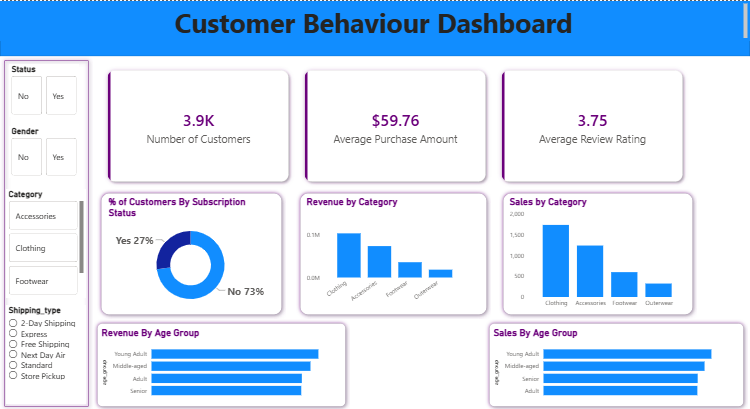

Layout of this report page (visuals, bound fields, positions):
{"tool":"powerbi","page":{"name":"Page 1","canvas":[1500,820],"ordinal":0},"visuals":[{"type":"cardVisual","fields":{"Data":["public customer.Number of Customers","public customer.Average Purchase Amount","public customer.Average Review Rating"]},"box":[186,110,1208,280],"z":0},{"type":"shape","box":[0,67.5,1500,42.5],"z":1000},{"type":"textbox","box":[0,0,1500,80],"z":2000},{"type":"shape","box":[194,376,378,260],"z":3000},{"type":"donutChart","title":"% of Customers By Subscription Status","fields":{"Category":["public customer.subscription_status"],"Y":["CountNonNull(public customer.customer_id)"]},"box":[212,390,338,232],"z":4000},{"type":"shape","box":[592,376,390,260],"z":5000},{"type":"shape","box":[998,376,396,260],"z":6000},{"type":"clusteredColumnChart","title":"Revenue by Category","fields":{"Y":["Sum(public customer.purchase_amount)"],"Category":["public customer.category"]},"box":[608,390,328,232],"z":7000},{"type":"clusteredColumnChart","title":"Sales by Category","fields":{"Y":["CountNonNull(public customer.customer_id)"],"Category":["public customer.category"]},"box":[1014,390,364,232],"z":8000},{"type":"shape","box":[0,110,186,710],"z":9000},{"type":"advancedSlicerVisual","fields":{"Values":["public customer.subscription_status"]},"box":[18,126,140,106],"z":10000},{"type":"advancedSlicerVisual","fields":{"Values":["public customer.subscription_status"]},"box":[18,250,140,104],"z":11000},{"type":"advancedSlicerVisual","title":"Category","fields":{"Values":["public customer.category"]},"box":[12,376,160,218],"z":12000},{"type":"listSlicer","title":"Shipping_type","fields":{"Values":["public customer.shipping_type"]},"box":[12,608,160,198],"z":13000},{"type":"shape","box":[186,636,514,184],"z":14000},{"type":"clusteredBarChart","title":"Revenue By Age Group","fields":{"Y":["Sum(public customer.purchase_amount)"],"Category":["public customer.age_group"]},"box":[198,652,486,152],"z":15000},{"type":"shape","box":[970,636,526,184],"z":16000},{"type":"clusteredBarChart","title":"Sales By Age Group","fields":{"Y":["CountNonNull(public customer.customer_id)"],"Category":["public customer.age_group"]},"box":[982,652,502,152],"z":17000}]}

Visuals, with their boxes in screenshot pixels (x1, y1, x2, y2), scaled from the page's 1500x820 canvas onto the 750x409 screenshot:
cardVisual - public customer.Number of Customers x public customer.Average Purchase Amount: 93,55,697,195
shape: 0,34,749,55
textbox: 0,0,749,40
shape: 97,188,286,317
"% of Customers By Subscription Status" donutChart: 106,195,275,310
shape: 296,188,491,317
shape: 499,188,697,317
"Revenue by Category" clusteredColumnChart: 304,195,468,310
"Sales by Category" clusteredColumnChart: 507,195,689,310
shape: 0,55,93,408
advancedSlicerVisual - public customer.subscription_status: 9,63,79,116
advancedSlicerVisual - public customer.subscription_status: 9,125,79,177
"Category" advancedSlicerVisual: 6,188,86,296
"Shipping_type" listSlicer: 6,303,86,402
shape: 93,317,350,408
"Revenue By Age Group" clusteredBarChart: 99,325,342,401
shape: 485,317,748,408
"Sales By Age Group" clusteredBarChart: 491,325,742,401
